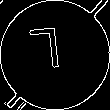L_S: (37, 28, 73, 82)
